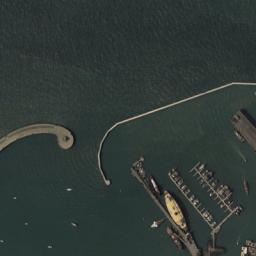boat: (163, 189, 188, 235), (166, 227, 184, 254), (148, 174, 160, 195), (150, 218, 164, 227), (234, 130, 244, 142), (220, 189, 230, 198), (219, 185, 228, 194), (242, 180, 248, 192), (204, 171, 212, 180), (168, 167, 174, 176), (198, 163, 205, 170), (202, 168, 208, 176), (216, 184, 222, 191), (211, 179, 217, 186), (171, 171, 178, 177), (236, 204, 242, 210), (225, 194, 231, 200), (177, 178, 183, 184), (174, 174, 180, 180), (234, 210, 240, 215), (211, 220, 216, 226), (184, 188, 190, 193), (181, 184, 186, 189), (202, 210, 208, 214), (136, 162, 142, 166), (236, 240, 240, 246), (198, 178, 203, 182), (202, 182, 206, 187), (208, 216, 213, 220), (194, 199, 198, 204), (190, 195, 194, 200), (70, 222, 76, 225), (236, 208, 240, 212), (205, 212, 209, 216), (207, 214, 211, 218), (65, 188, 72, 190), (140, 169, 144, 172), (140, 172, 144, 175), (47, 245, 52, 247), (138, 167, 141, 170), (144, 178, 147, 181), (244, 158, 246, 162), (210, 191, 212, 195), (220, 203, 222, 207), (193, 198, 195, 202), (13, 196, 16, 198), (214, 230, 217, 232), (217, 228, 219, 231), (202, 218, 205, 220), (174, 166, 177, 168), (146, 181, 148, 184), (174, 228, 177, 230), (0, 238, 3, 240), (142, 159, 144, 161), (141, 158, 143, 160), (140, 156, 142, 158), (172, 225, 174, 227), (166, 226, 168, 228), (24, 222, 28, 223), (74, 225, 76, 226), (71, 187, 72, 188)
